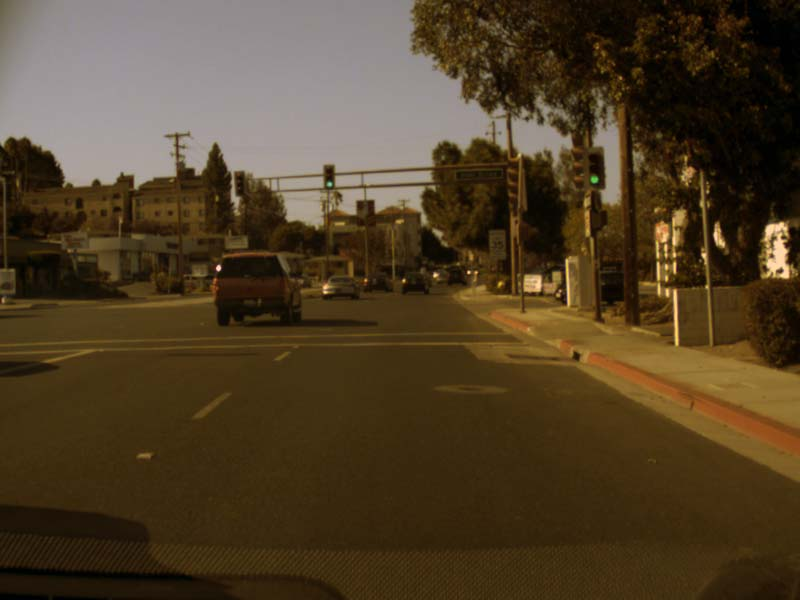Green: (589, 152, 603, 189), (323, 164, 335, 189)
